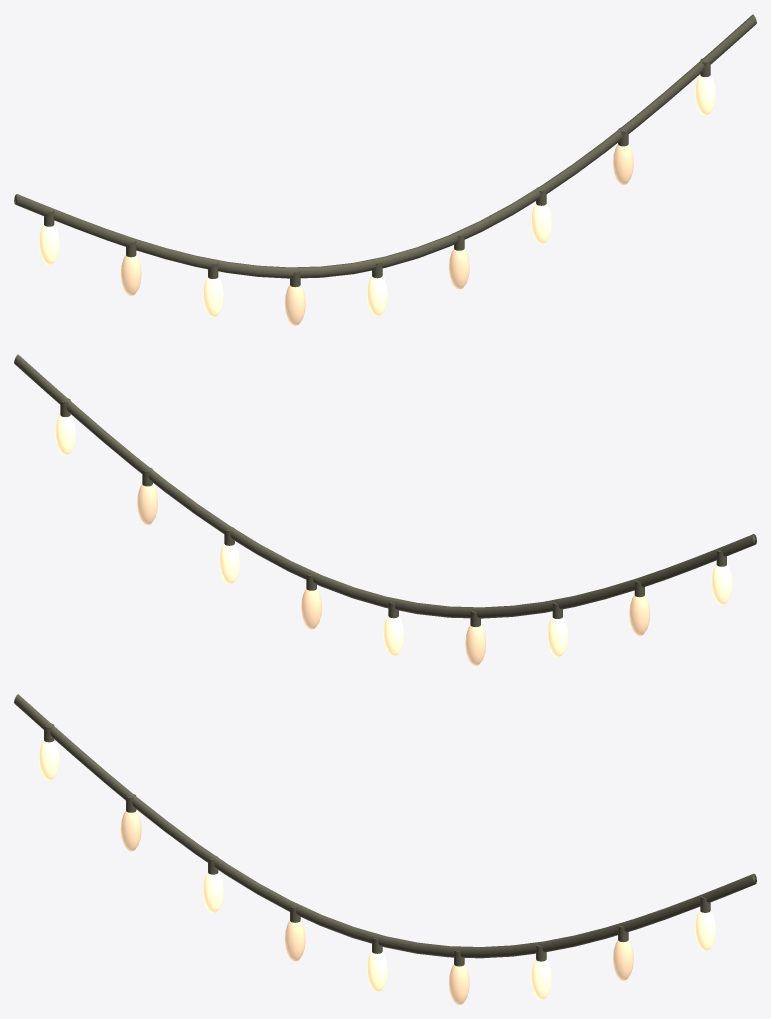
Rendered from christmaslights.glb.
3 views of the same model, one above another, from view 1: azimuth 30°, elevation 25°; view 2: azimuth 150°, elevation 25°; view 3: azimuth 330°, elevation 25° (orthographic).
Visible parts, largest first — view 1: christmas-continuous-cable, christmas-bulb-6, christmas-bulb-7, christmas-bulb-0, christmas-bulb-5, christmas-bulb-1, christmas-bulb-3, christmas-bulb-4, christmas-bulb-8, christmas-bulb-2; view 2: christmas-continuous-cable, christmas-bulb-6, christmas-bulb-7, christmas-bulb-0, christmas-bulb-5, christmas-bulb-1, christmas-bulb-3, christmas-bulb-4, christmas-bulb-8, christmas-bulb-2; view 3: christmas-continuous-cable, christmas-bulb-4, christmas-bulb-3, christmas-bulb-1, christmas-bulb-7, christmas-bulb-6, christmas-bulb-8, christmas-bulb-2, christmas-bulb-5, christmas-bulb-0.
Boxes of the visible parts, x1,y1,x2,y2 form: christmas-continuous-cable: (14,14,756,278); christmas-bulb-6: (531,204,551,244); christmas-bulb-7: (613,144,633,184); christmas-bulb-0: (38,225,59,265); christmas-bulb-5: (449,248,469,289); christmas-bulb-1: (120,255,141,295); christmas-bulb-3: (284,285,305,325); christmas-bulb-4: (366,276,387,316); christmas-bulb-8: (695,75,715,115); christmas-bulb-2: (202,277,223,317); christmas-continuous-cable: (14,354,756,618); christmas-bulb-6: (219,544,239,584); christmas-bulb-7: (137,484,157,524); christmas-bulb-0: (711,565,732,605); christmas-bulb-5: (301,588,321,629); christmas-bulb-1: (629,595,650,635); christmas-bulb-3: (465,625,486,665); christmas-bulb-4: (383,616,404,656); christmas-bulb-8: (55,415,75,455); christmas-bulb-2: (547,617,568,657); christmas-continuous-cable: (14,694,756,958); christmas-bulb-4: (366,952,387,992); christmas-bulb-3: (284,921,305,961); christmas-bulb-1: (120,811,141,851); christmas-bulb-7: (613,940,633,980); christmas-bulb-6: (531,959,551,999); christmas-bulb-8: (695,911,715,951); christmas-bulb-2: (202,872,223,912); christmas-bulb-5: (449,964,469,1004); christmas-bulb-0: (38,740,59,780).
Size of the model in its own units: 1.3 by 0.3536 by 0.032.
